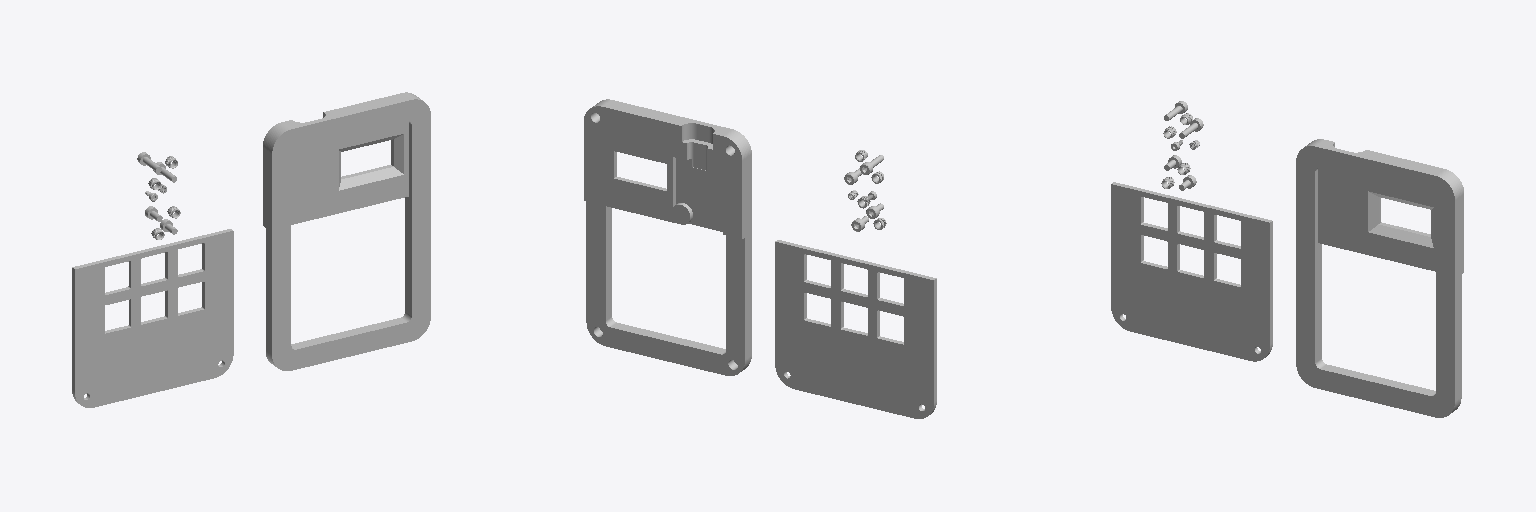
Rendered from utilipadfinal [top].obj.
3 renders of one model, left to right at view 1: azimuth 30°, elevation 25°; view 2: azimuth 150°, elevation 25°; view 3: azimuth 330°, elevation 25°, orthographic.
Parts seen in each view (by area): view 1: obj2, obj5, obj3; view 2: obj2, obj3; view 3: obj2, obj5, obj3.
Boxes of the visible parts, box(x1,y1,x2,y2) form: obj2: box(72, 92, 430, 403); obj5: box(75, 231, 233, 407); obj3: box(137, 152, 177, 234); obj2: box(584, 99, 936, 418); obj3: box(844, 155, 883, 231); obj2: box(1112, 139, 1463, 417); obj5: box(1111, 184, 1269, 361); obj3: box(1164, 101, 1203, 190).
Bounding box in the file's own units: 182 × 123 × 17.07.